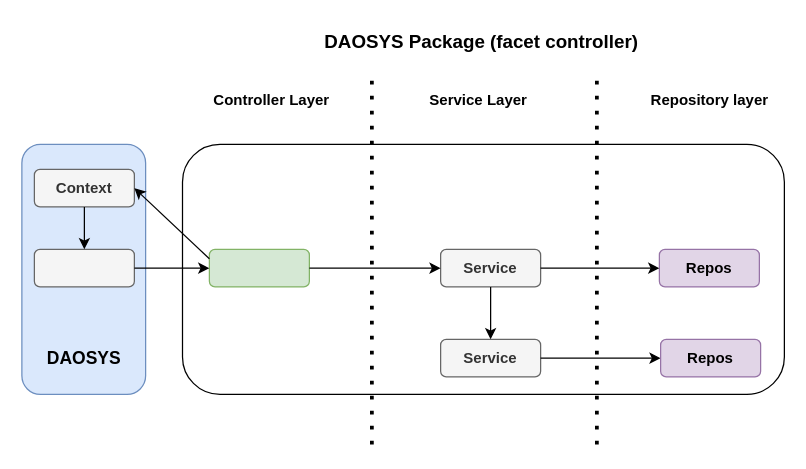
Image size: 806x469. Some labels were removed from this diagram. The centre of each missing label's shape, as x and y in pixels:
"Facet" belongs at point (258, 267).
"Proxy" belongs at point (83, 267).
